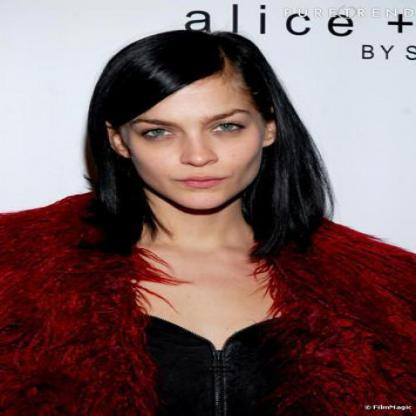long-hair: (73, 212, 338, 251)
